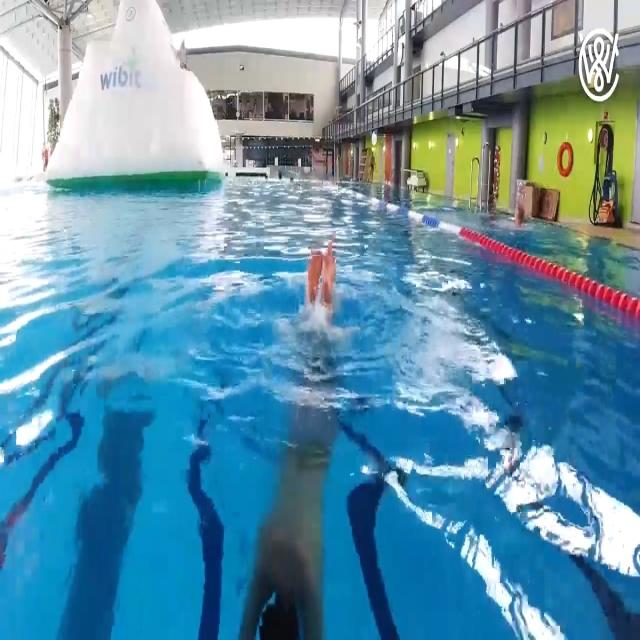Swimming: (238, 243, 342, 637)
